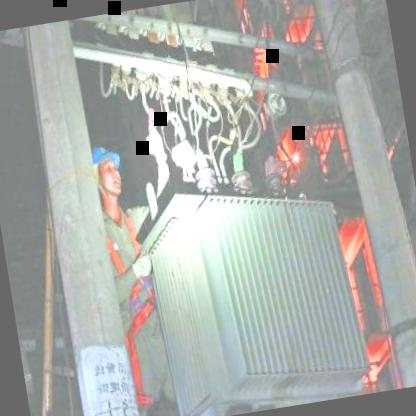helmet: (89, 144, 129, 212)
